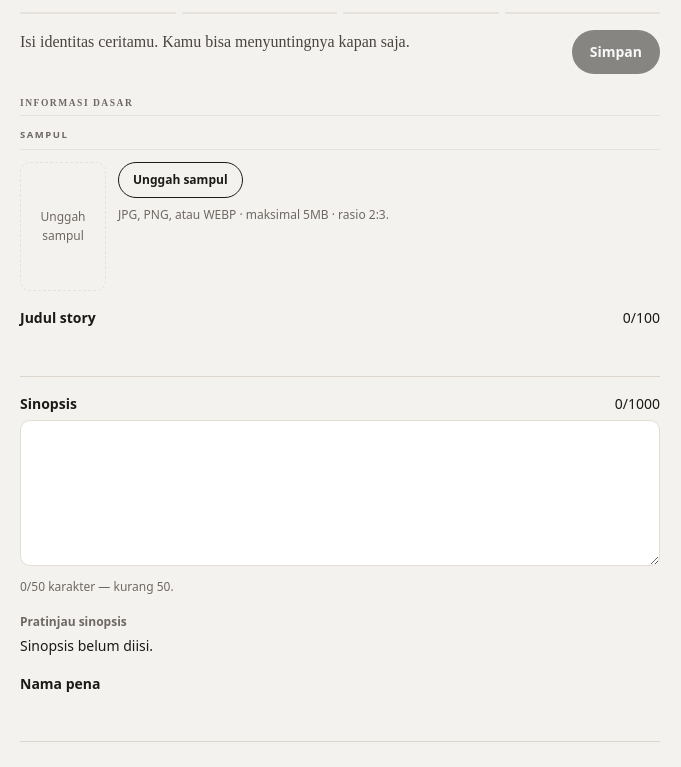
validasi berurutan & inline · FR-STUDIO-16 › berhenti di kesalahan pertama, dan pesannya menempel di kolomnya
In the field labelled "Judul story": (340, 356) [20,335,660,377], type "x"
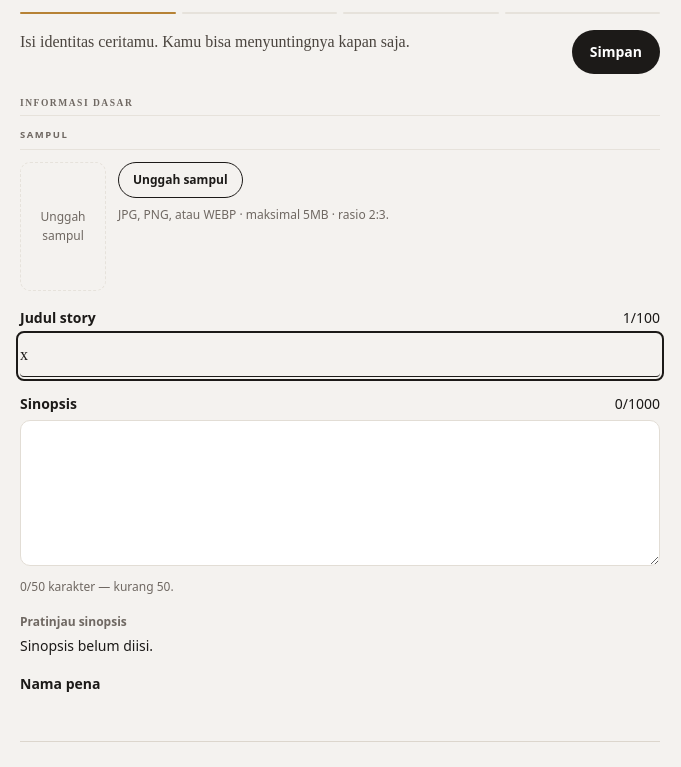
Clear the field labelled "Judul story": (340, 356) [20,335,660,377]
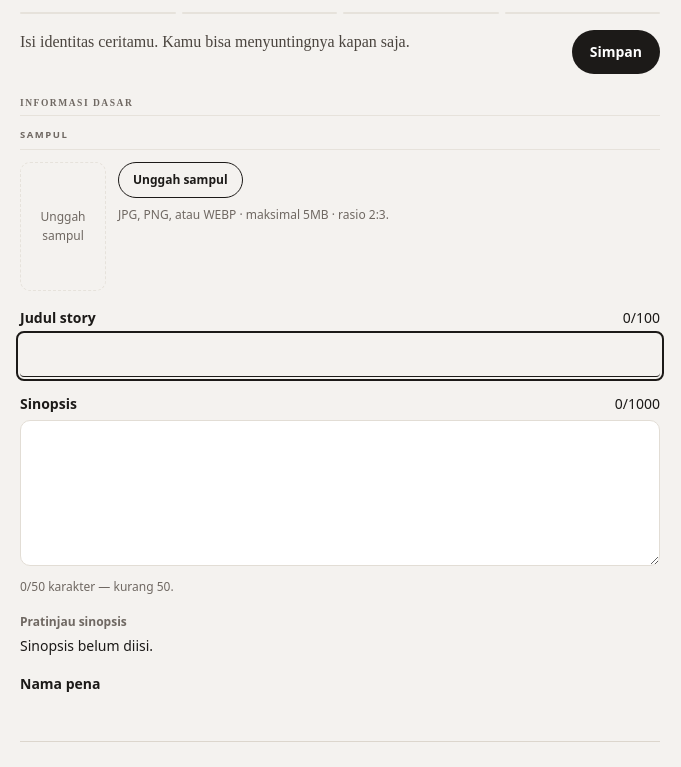
In the text box labelled "Sinopsis": (340, 493) [20,420,660,566], type "pendek"
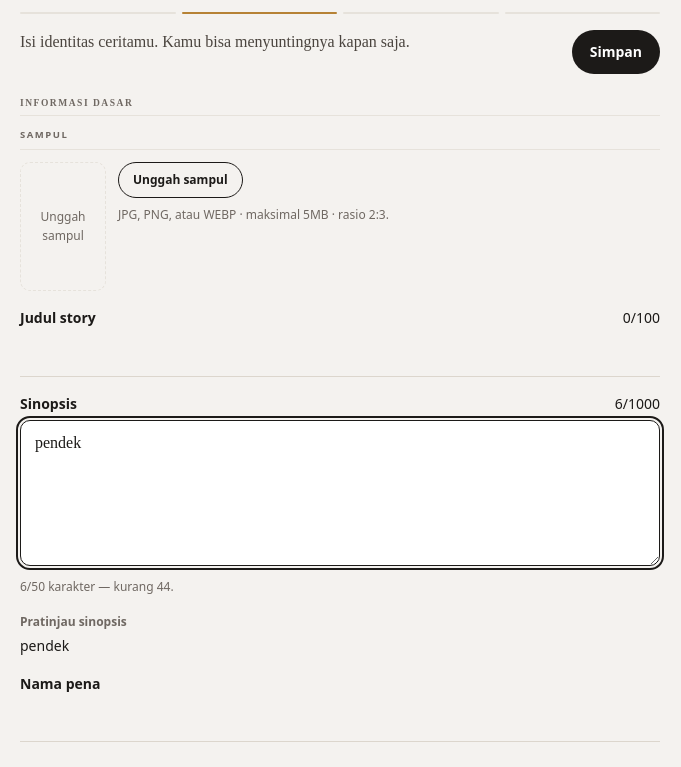
Click the button "Simpan": (616, 52) [572,30,660,74]
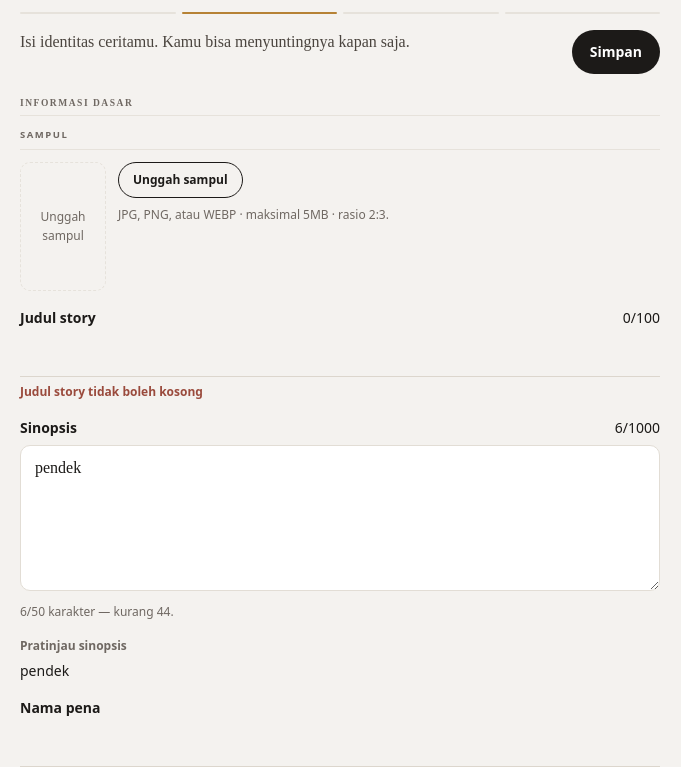
Now the text "Judul story tidak boleh kosong" is shown, box [20,383,203,400]
